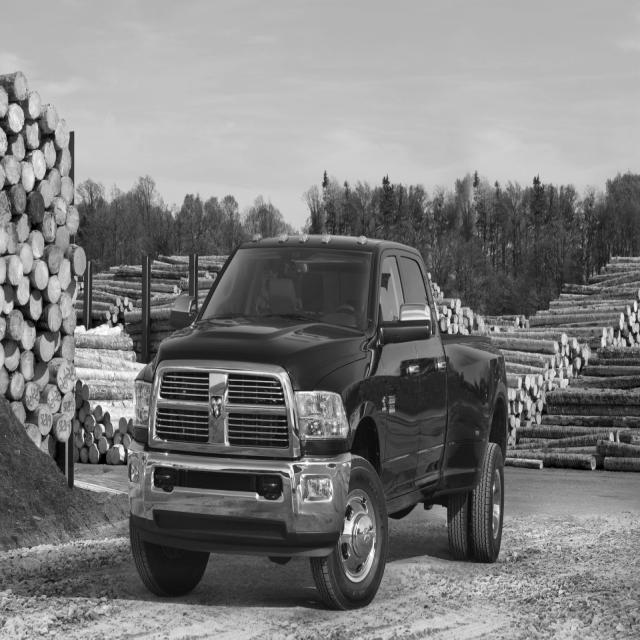car: (126, 232, 509, 611)
